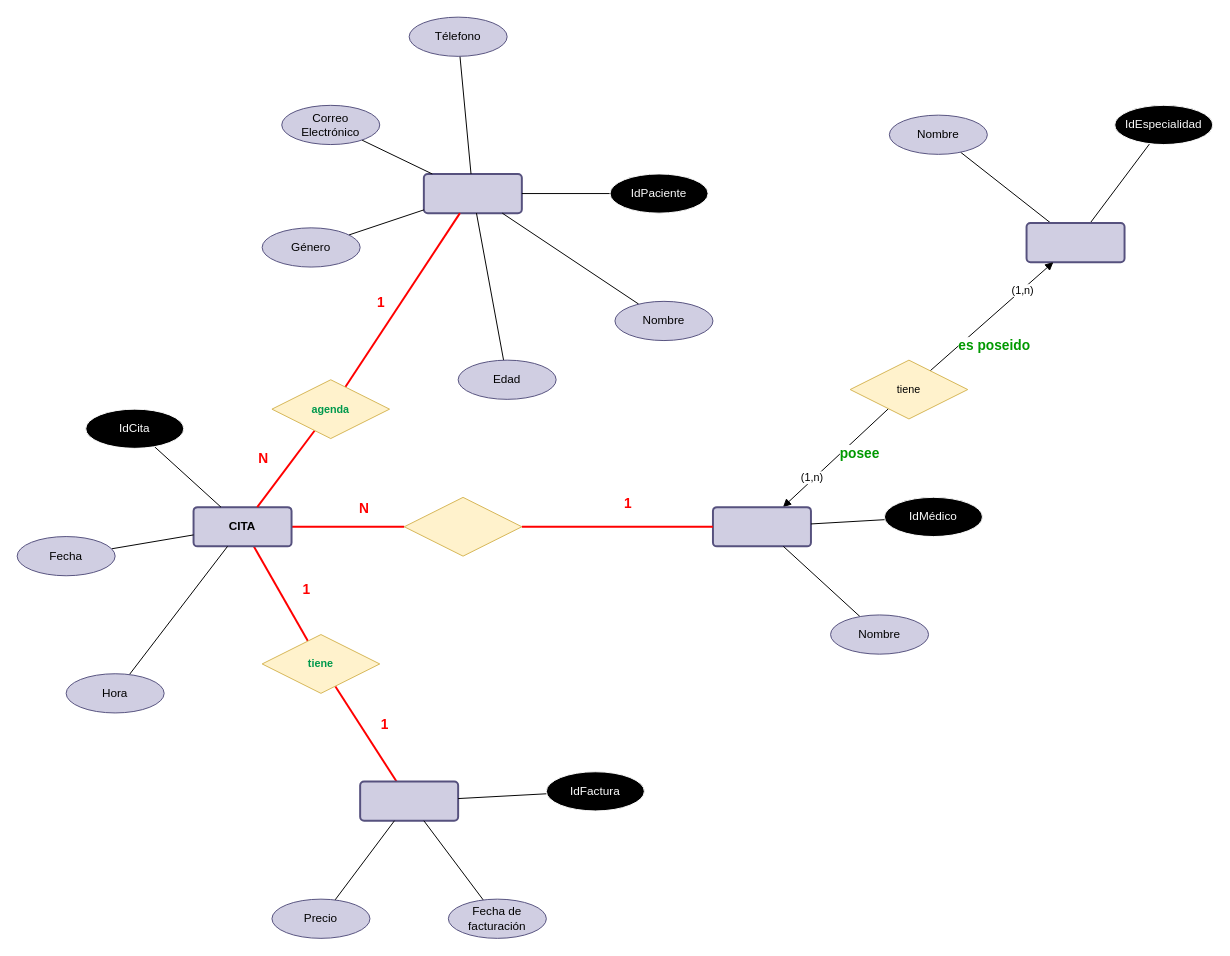
The diagram is 1230 pixels wide and 956 high, and some of its shapes have lost their labels. The shapes that lost their labels are listed below. From the top down, each one's box as (x1, y1, x2, y2) in pixels, then its label:
(422, 172, 522, 214): PACIENTE
(1025, 221, 1125, 263): ESPECIALIDAD
(403, 496, 522, 556): asignado
(711, 506, 811, 547): MÉDICO
(359, 780, 459, 821): FACTURA
